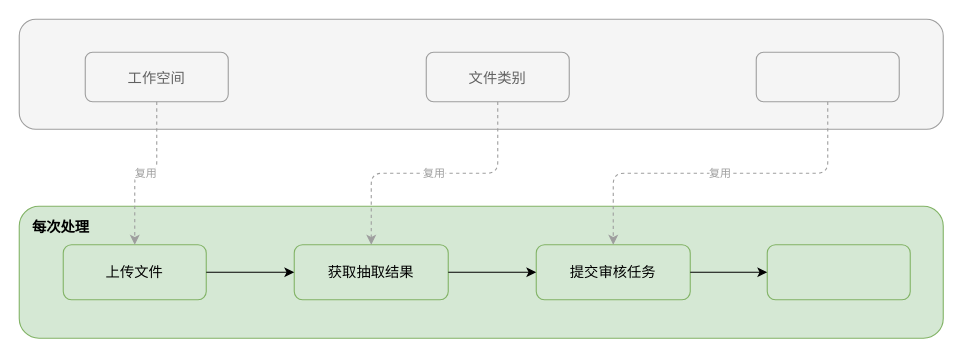
Some shapes in this 963 by 358 pixel diagram are drawn without their labels. Here are the shapes that lost their labels. From the top down, the box of each, then its label:
(18, 18, 943, 129): 已完成配置（复用）
(755, 51, 899, 102): 审核规则库
(766, 244, 910, 300): 获取审核结果
